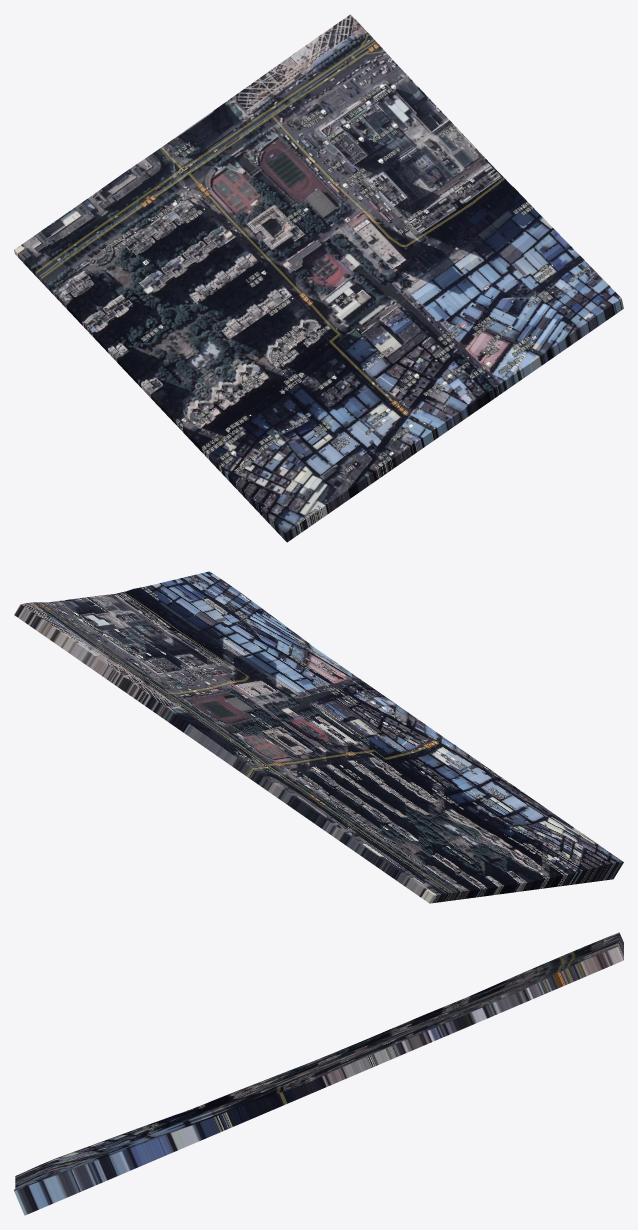
The picture shows the model from 3 angles, top to bottom: view 1: azimuth 30°, elevation 25°; view 2: azimuth 150°, elevation 25°; view 3: azimuth 270°, elevation 25°; orthographic projection. The views are drawn at different scales.
Visible parts, largest first — view 1: 0_17_18; view 2: 0_17_18; view 3: 0_17_18.
Boxes of the visible parts, x1,y1,x2,y2 form: 0_17_18: (14,14,623,542); 0_17_18: (14,571,623,903); 0_17_18: (14,932,623,1215).
Bounding box in the file's own units: 596 × 439 × 552.
1 material, 1 textured.
